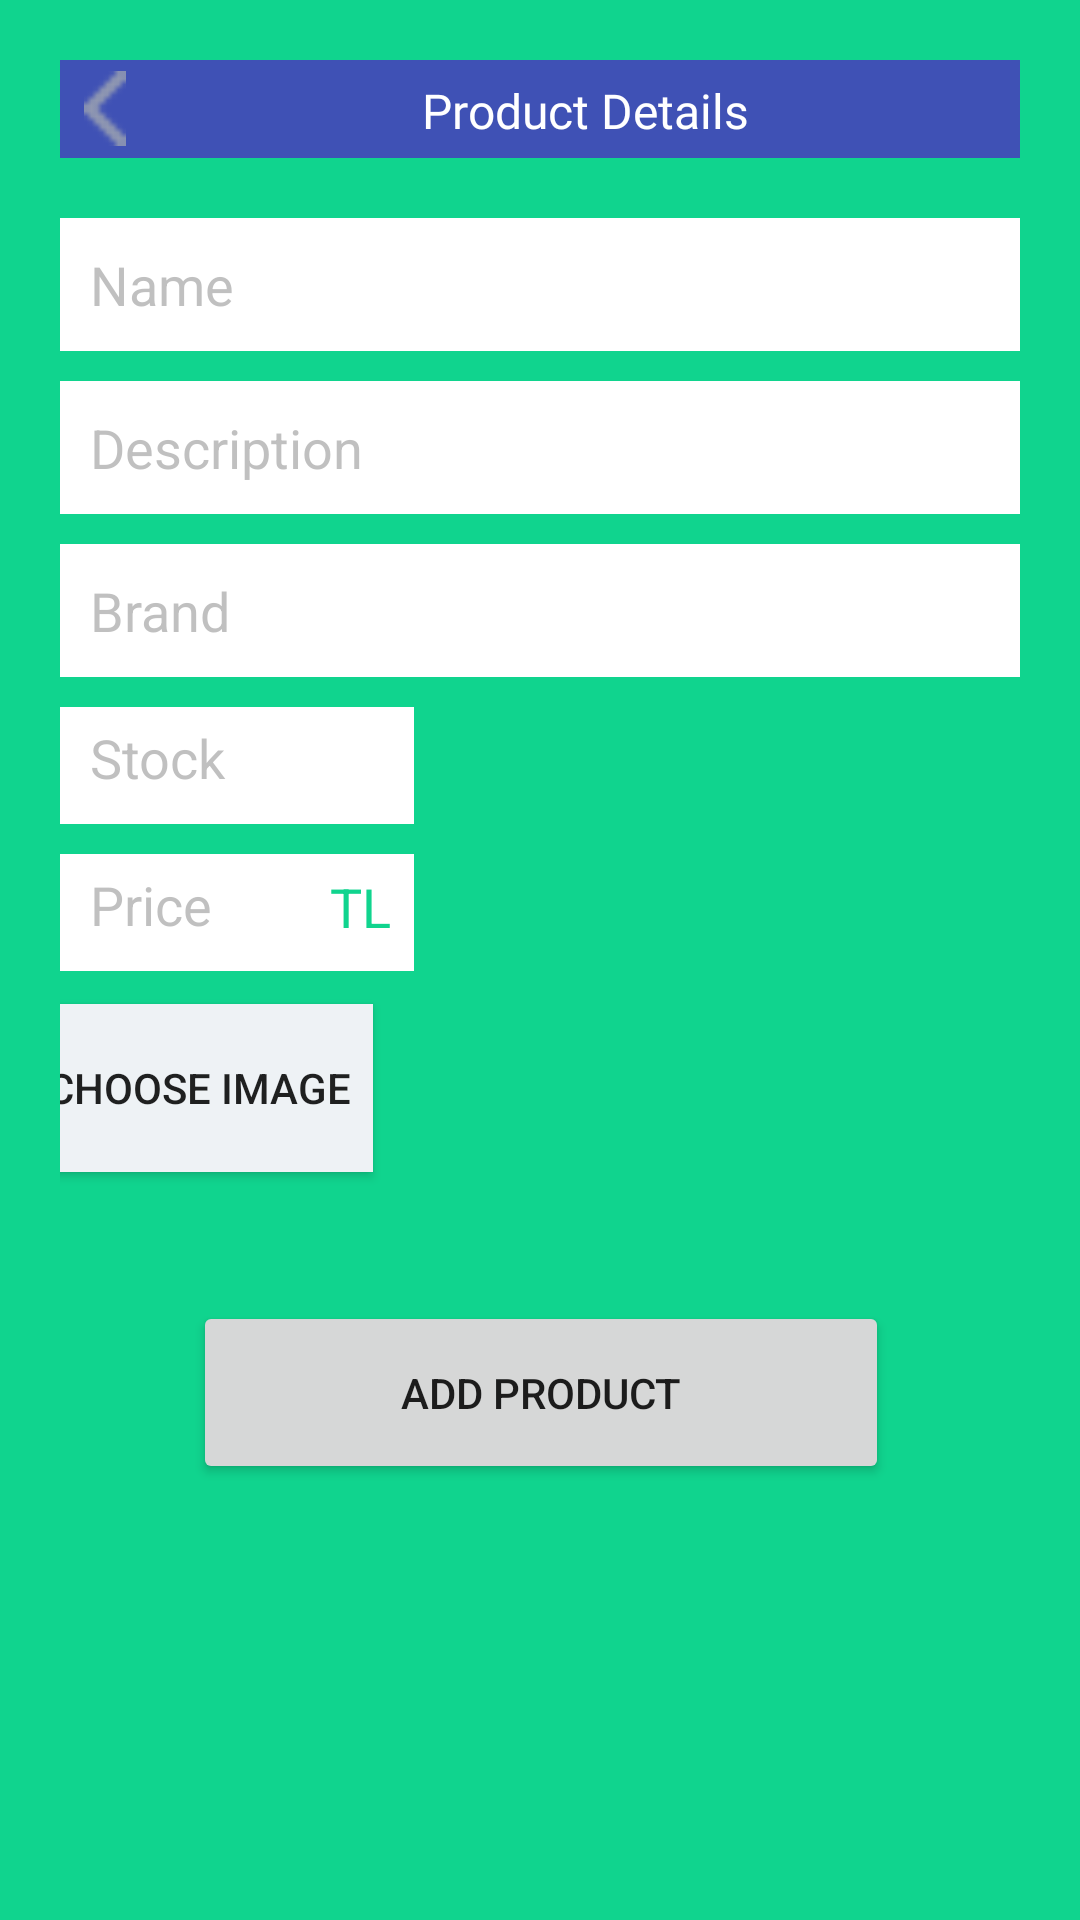

Where to tap for icons on this 1080px×1920px app screen, as (x=x, y=y):
back arrow: (x=105, y=108)
